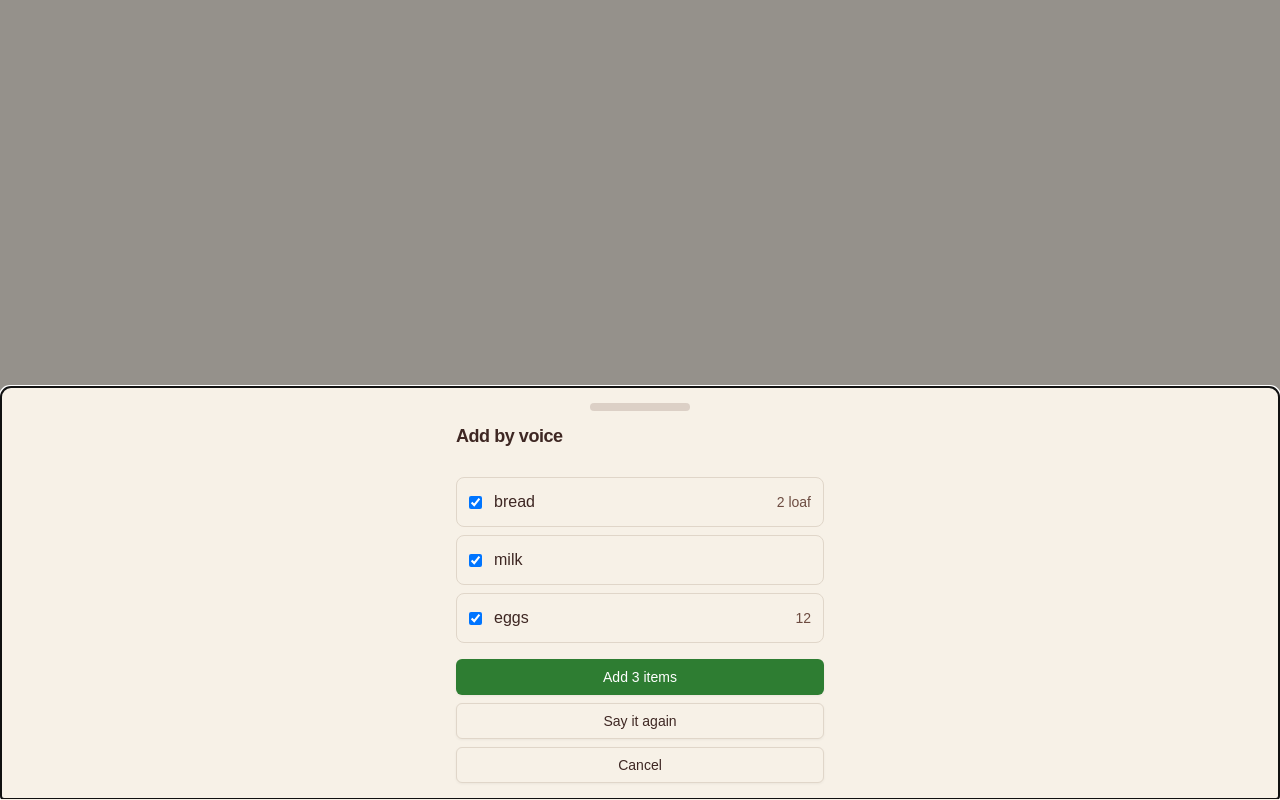
VoiceAddDrawer › keeps the drawer open and shows the error when adding fails
Expected: the text "bread" is shown, [494,493,535,510]
Click the button "Add 3 items" at x=640, y=677, box [456,659,824,695]
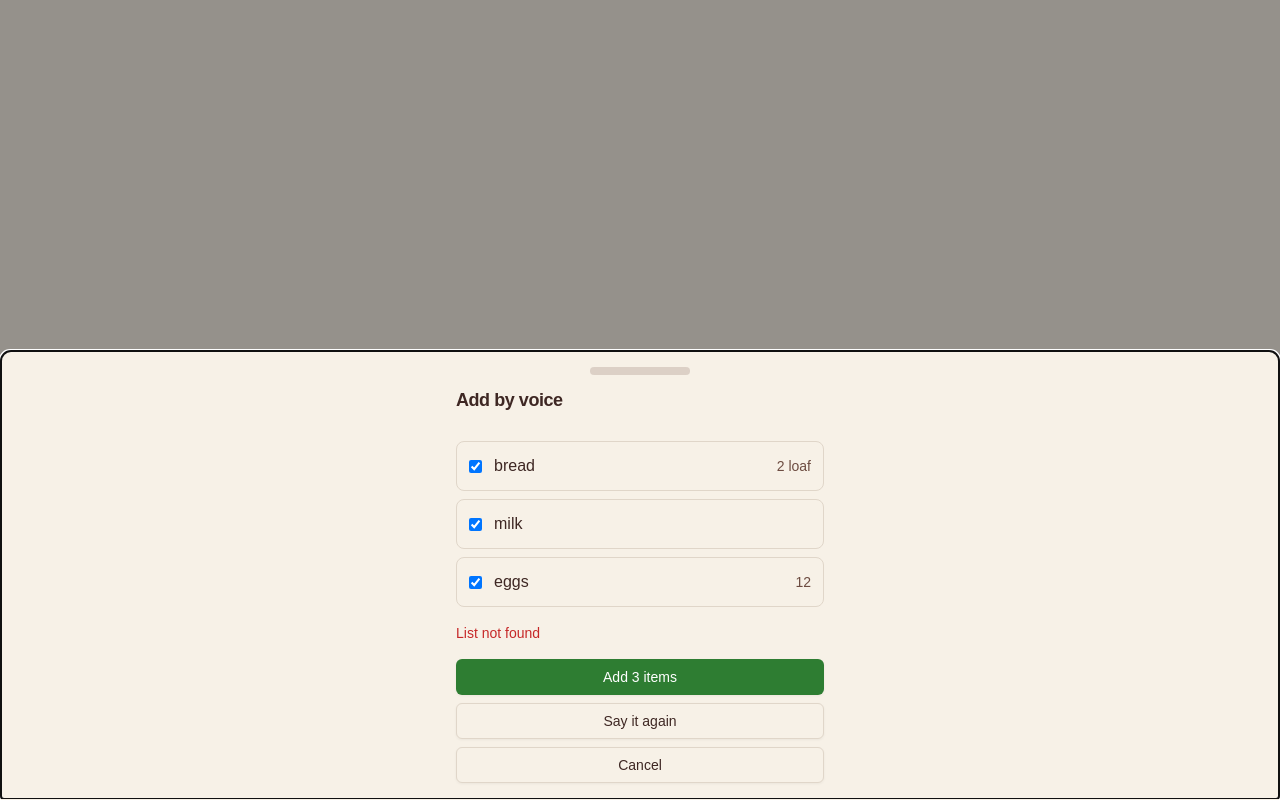
Expected: the message reads "List not found", [456,625,540,641]
